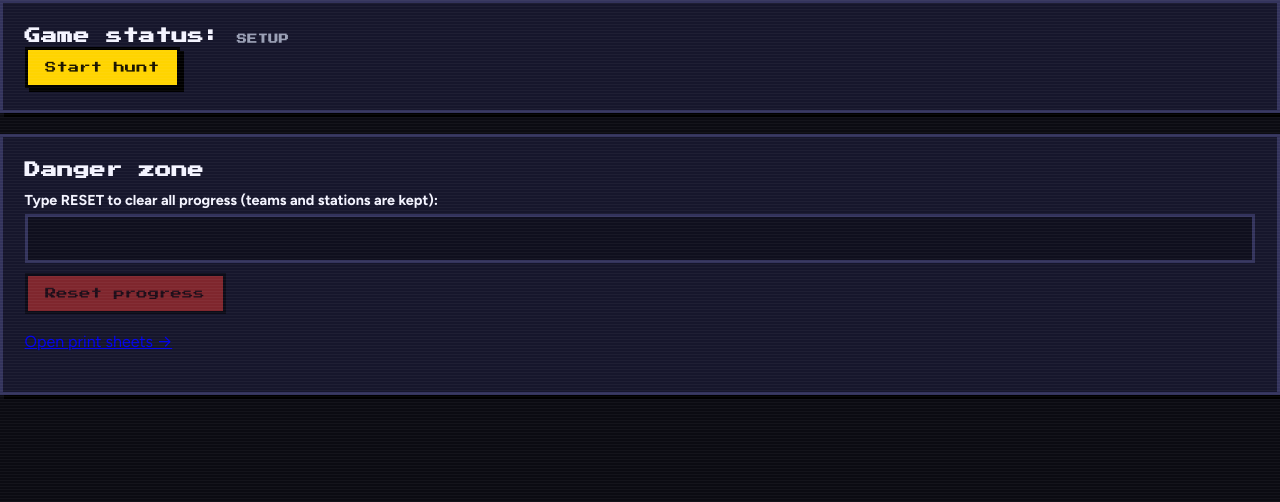
Test: GameControl › offers Start in setup and surfaces validation errors
The width and height of the screenshot is (1280, 502).
Click the button "Start hunt": click(102, 68) [25,47,180,88]
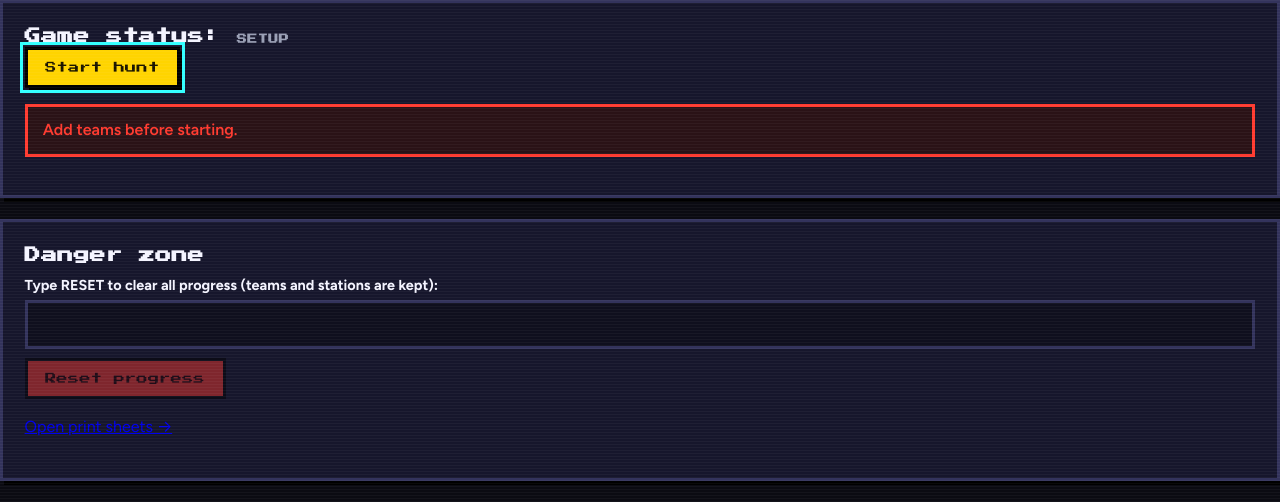
Now the text "Add teams before starting." is shown, box [25,104,1255,157]
